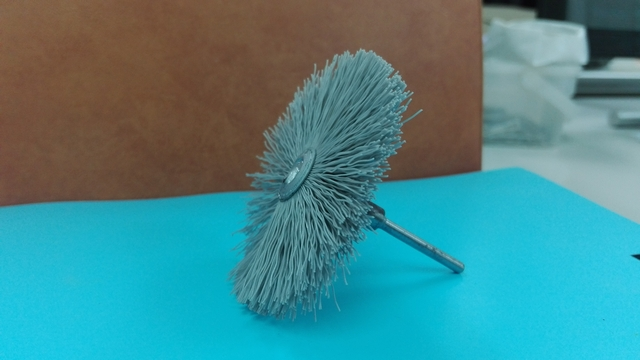TOOL: (162, 31, 514, 360), (179, 63, 497, 324), (184, 23, 519, 268), (202, 8, 395, 338), (228, 85, 501, 299)
